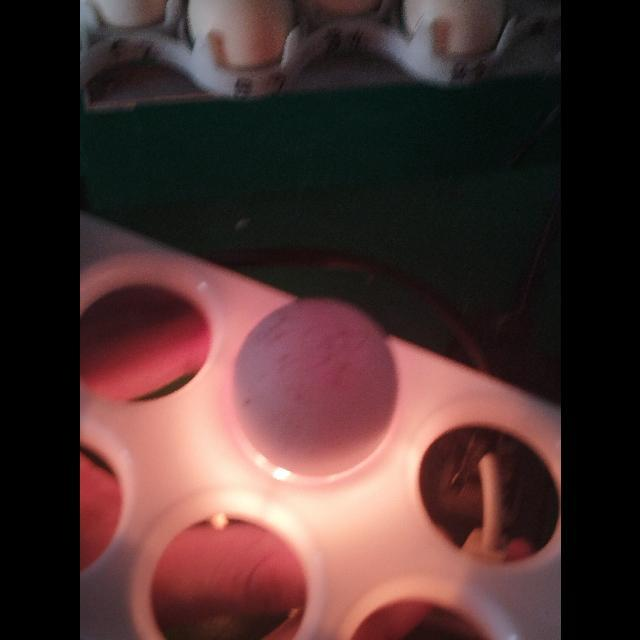Fertile: (228, 292, 402, 486)
